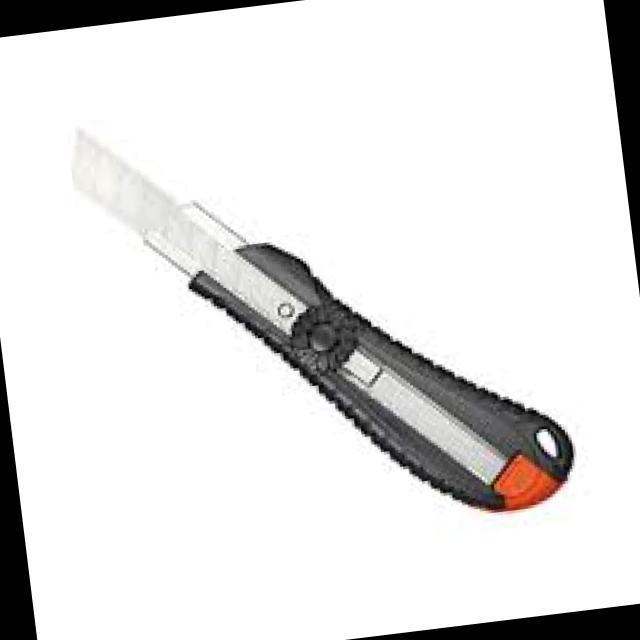cutter: (58, 62, 594, 576)
